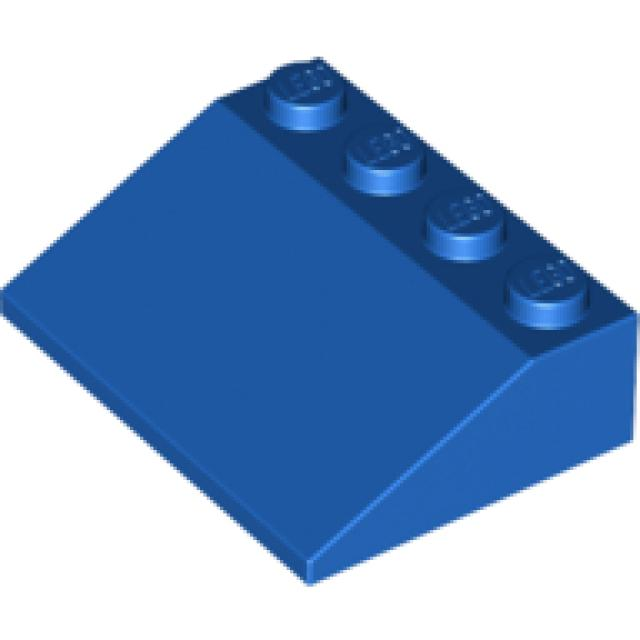Blue_Large: (0, 60, 637, 590)
